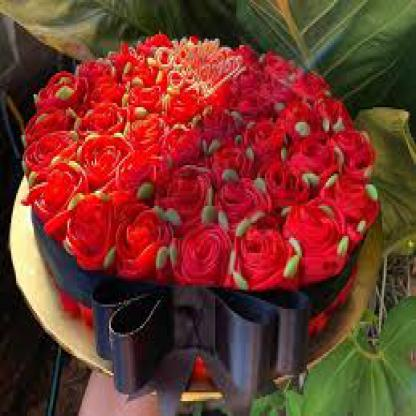Rose-Mawar: (19, 29, 383, 295)
